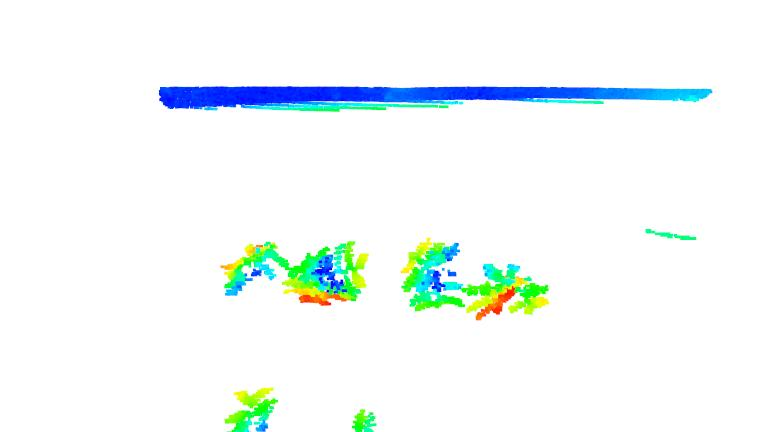chickpea: (464, 253, 556, 325), (285, 233, 372, 309), (402, 230, 466, 320), (220, 240, 283, 296), (217, 382, 281, 432), (343, 403, 379, 432)
